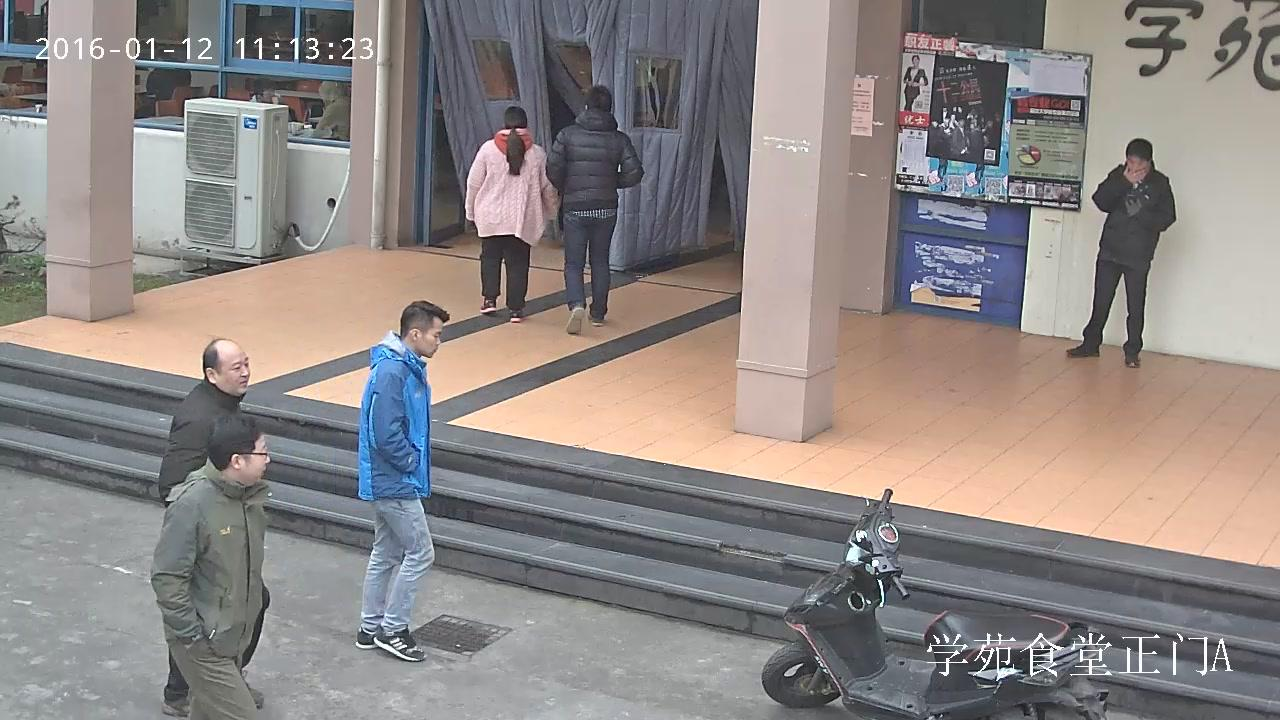person: (156, 338, 270, 717), (148, 413, 272, 720), (354, 299, 448, 663), (1065, 137, 1177, 366), (549, 84, 645, 335), (464, 106, 562, 323), (303, 79, 350, 141), (902, 55, 929, 111)
